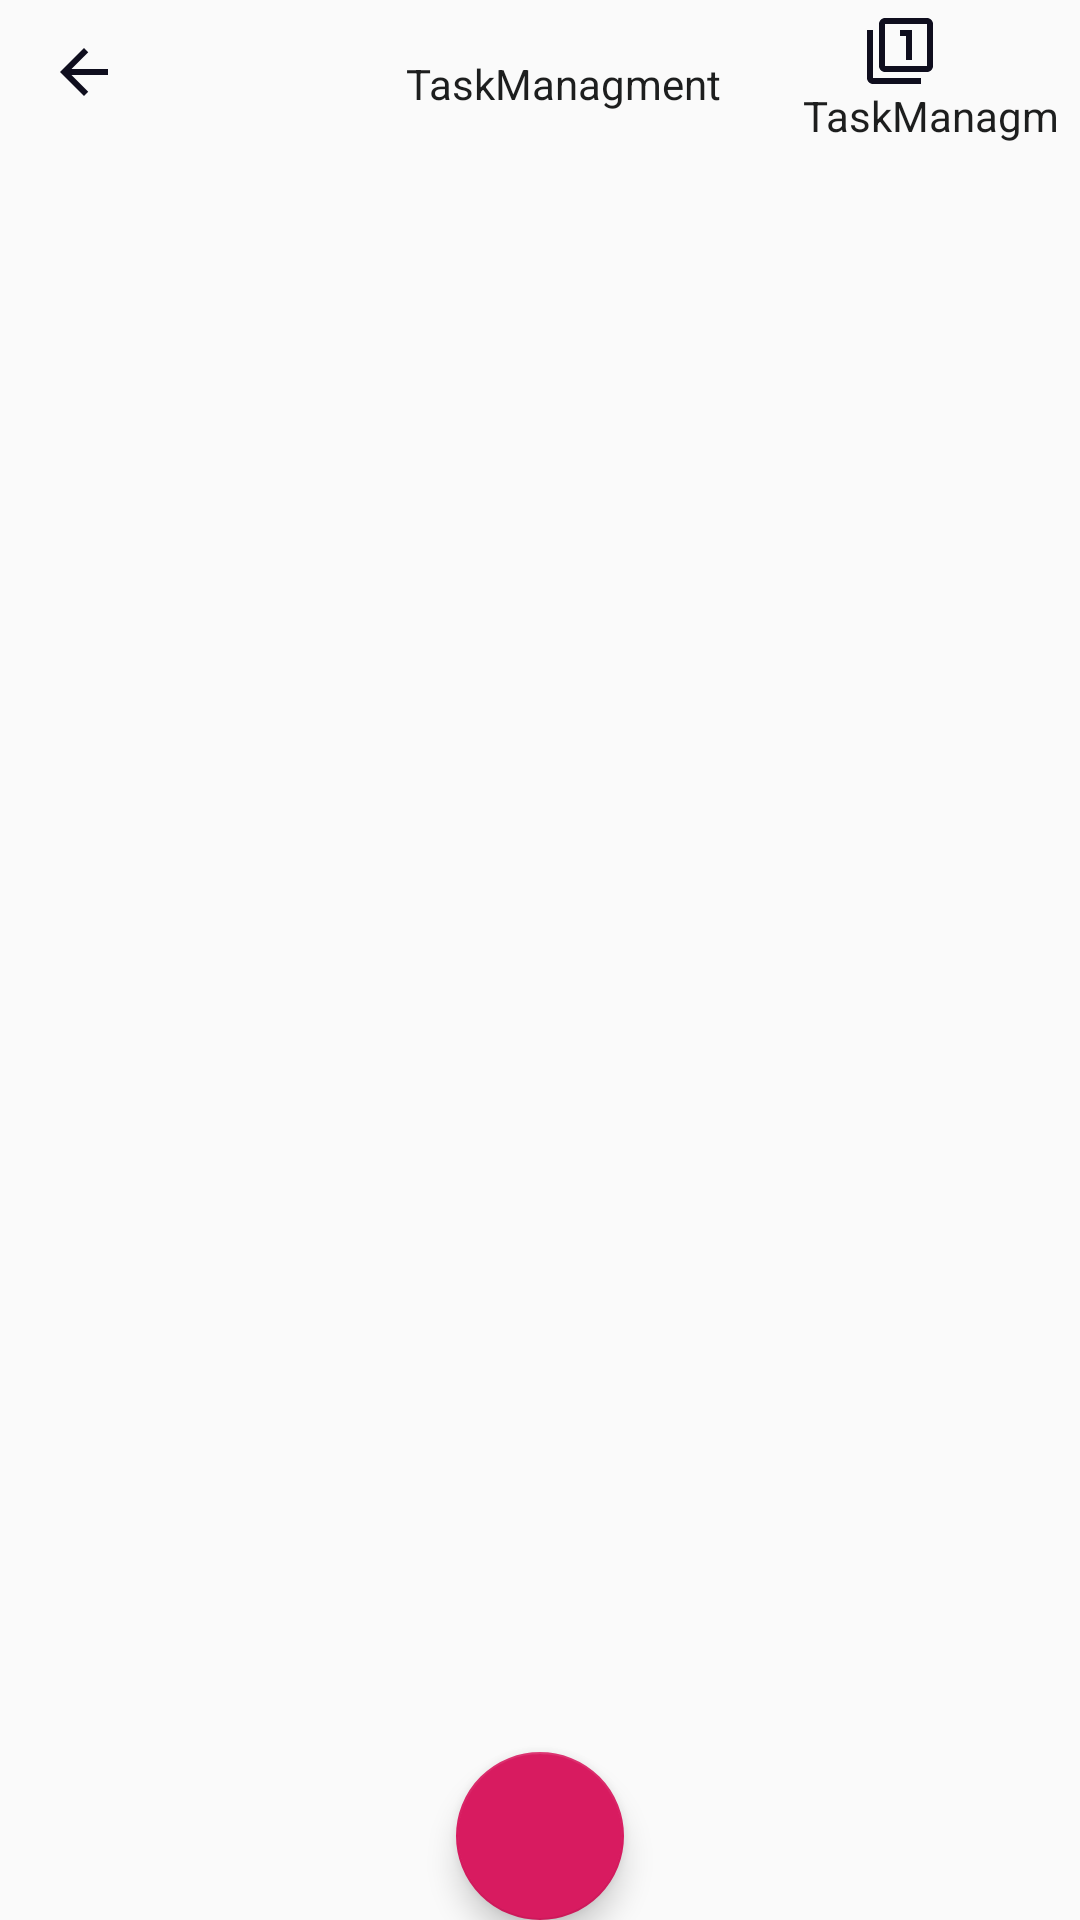

Screen size 1080*1920. Icon name, then its center in pixels as (x,y):
arrow back: (84,72)
filter: (900,51)
